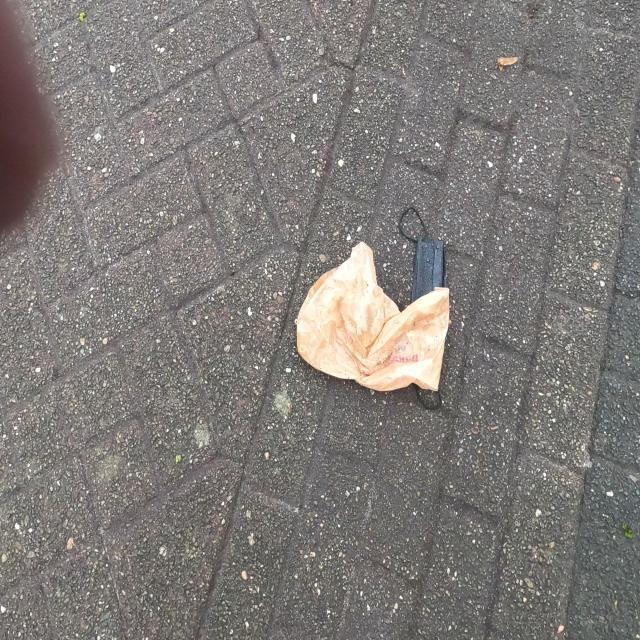Mask: (398, 206, 458, 302)
